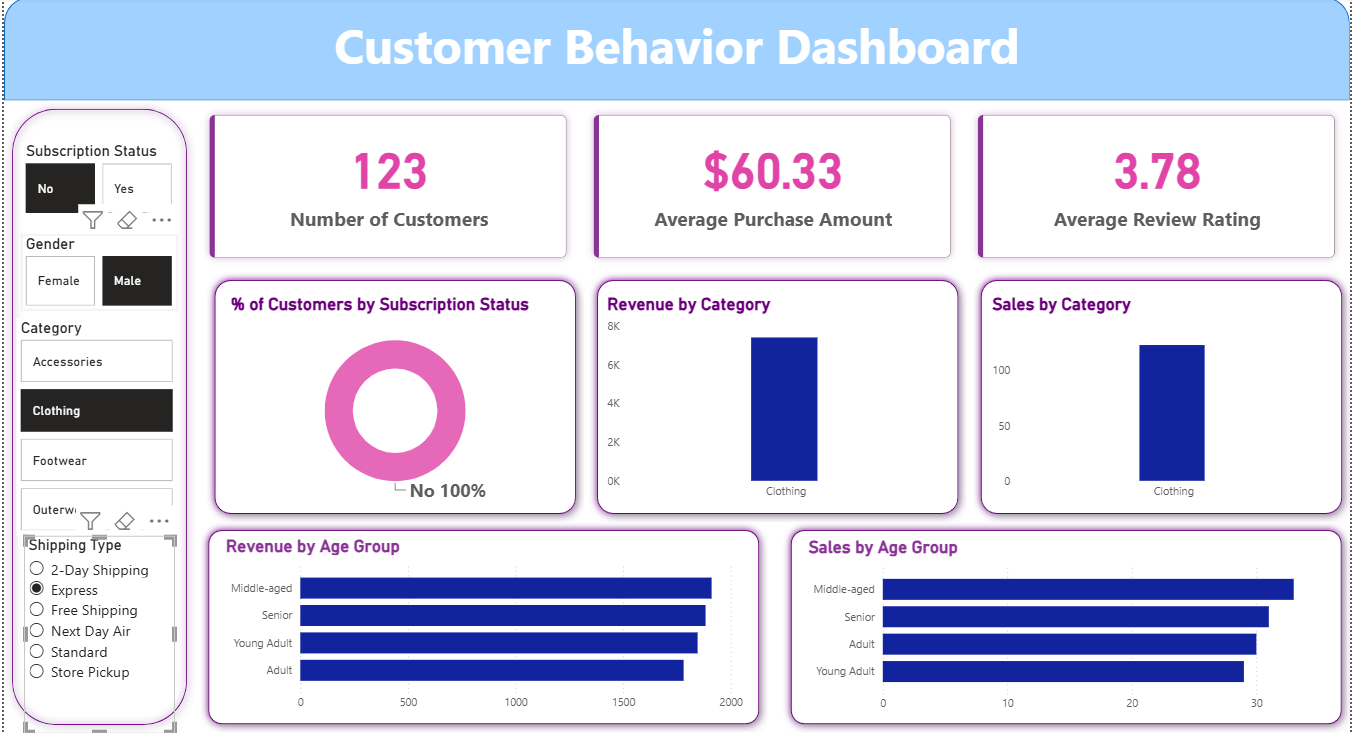

What the dashboard file says about the page in this screenshot:
{"tool":"powerbi","page":{"name":"Page 1","canvas":[1500,820],"ordinal":0},"visuals":[{"type":"cardVisual","fields":{"Data":["public customer.Number of Customers","public customer.Average Purchase Amount","public customer.Average Review Rating"]},"box":[212.9,115.3,1286.5,191.6],"z":2000},{"type":"shape","box":[218.3,585.6,631.7,234.2],"z":2500,"group":"g1"},{"type":"shape","box":[0,0,1499.4,115.3],"z":3000},{"type":"textbox","box":[0,12.4,1499.4,102.9],"z":4000},{"type":"shape","box":[225.4,307,420.5,278.6],"z":5000},{"type":"donutChart","title":"% of Customers by Subscription Status","fields":{"Category":["public customer.subscription_status"],"Y":["CountNonNull(public customer.customer_id)"]},"box":[248.4,331.8,376.2,237.8],"z":6000},{"type":"shape","box":[1078.9,307,420.5,278.6],"z":7000},{"type":"shape","box":[652.1,307,420.5,278.6],"z":8000},{"type":"clusteredColumnChart","title":"Revenue by Category","fields":{"Y":["Sum(public customer.purchase_amount)"],"Category":["public customer.category"]},"box":[667.2,331.8,385.1,237.8],"z":9000},{"type":"clusteredColumnChart","title":"Sales by Category","fields":{"Y":["CountNonNull(public customer.customer_id)"],"Category":["public customer.category"]},"box":[1096.6,331.8,385.1,237.8],"z":10000},{"type":"shape","box":[0,115.3,212.9,704.5],"z":11000},{"type":"advancedSlicerVisual","fields":{"Values":["public customer.subscription_status"]},"box":[19.5,161.5,173.9,85.2],"z":12000},{"type":"advancedSlicerVisual","fields":{"Values":["public customer.gender"]},"box":[19.5,264.4,173.9,85.2],"z":13000},{"type":"advancedSlicerVisual","fields":{"Values":["public customer.category"]},"box":[13.9,357.9,179.7,242.3],"z":14000},{"type":"listSlicer","fields":{"Values":["public customer.shipping_type"]},"box":[22.3,600.2,168.5,220],"z":15000},{"type":"shape","box":[867.7,585.6,631.7,234.2],"z":16000},{"type":"clusteredBarChart","title":"Sales by Age Group","fields":{"Y":["CountNonNull(public customer.customer_id)"],"Category":["public customer.age_group"]},"box":[890.8,601.5,585.6,204.1],"z":17000},{"type":"clusteredBarChart","title":"Revenue by Age Group","fields":{"Y":["Sum(public customer.purchase_amount)"],"Category":["public customer.age_group"]},"box":[241.4,601.6,585.6,204.1],"z":17500,"group":"g1"},{"type":"group","id":"g1","title":"Group 1","box":[218.3,585.6,631.7,234.2],"z":17501}]}

Visuals, with their boxes in screenshot pixels (x1, y1, x2, y2), scaled from the page's 1500x820 canvas onto the 1353x733 screenshot:
cardVisual - public customer.Number of Customers x public customer.Average Purchase Amount: (x1=192, y1=103, x2=1352, y2=274)
shape: (x1=197, y1=523, x2=767, y2=732)
shape: (x1=0, y1=0, x2=1352, y2=103)
textbox: (x1=0, y1=11, x2=1352, y2=103)
shape: (x1=203, y1=274, x2=583, y2=523)
"% of Customers by Subscription Status" donutChart: (x1=224, y1=297, x2=563, y2=509)
shape: (x1=973, y1=274, x2=1352, y2=523)
shape: (x1=588, y1=274, x2=967, y2=523)
"Revenue by Category" clusteredColumnChart: (x1=602, y1=297, x2=949, y2=509)
"Sales by Category" clusteredColumnChart: (x1=989, y1=297, x2=1336, y2=509)
shape: (x1=0, y1=103, x2=192, y2=732)
advancedSlicerVisual - public customer.subscription_status: (x1=18, y1=144, x2=174, y2=221)
advancedSlicerVisual - public customer.gender: (x1=18, y1=236, x2=174, y2=313)
advancedSlicerVisual - public customer.category: (x1=13, y1=320, x2=175, y2=537)
listSlicer - public customer.shipping_type: (x1=20, y1=537, x2=172, y2=732)
shape: (x1=783, y1=523, x2=1352, y2=732)
"Sales by Age Group" clusteredBarChart: (x1=804, y1=538, x2=1332, y2=720)
"Revenue by Age Group" clusteredBarChart: (x1=218, y1=538, x2=746, y2=720)
"Group 1" group: (x1=197, y1=523, x2=767, y2=732)
